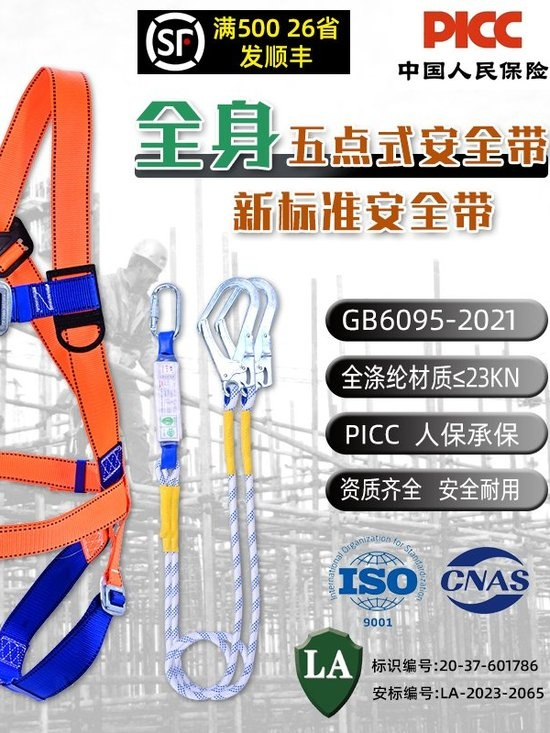safety belt: (2, 64, 139, 696)
